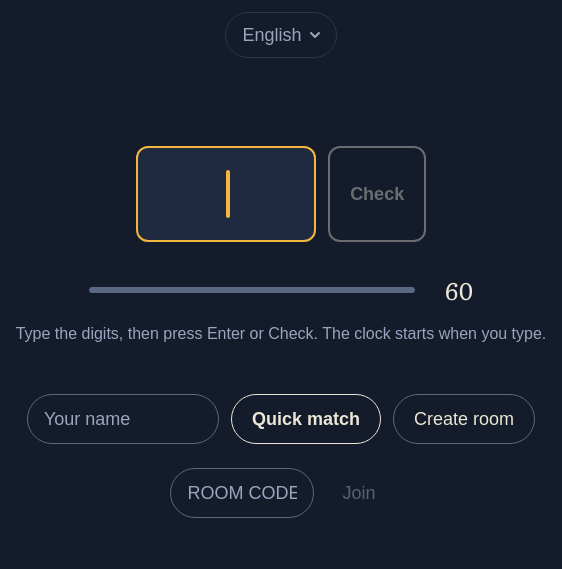
private rooms › creates a private room and shows its code
Step 1. Click the button "Create room" → (464, 419), box [393,394,535,444]
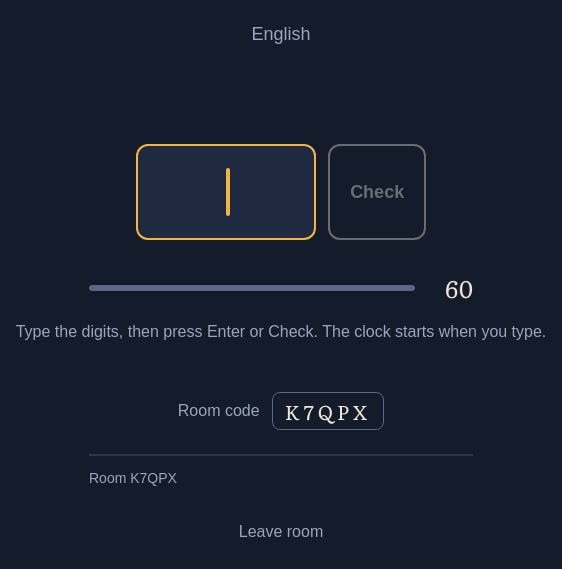
Expected: the button "Leave room" is shown, [223,512,339,552]
Expected: the button with aria-label "Copy room code K7QPX" is shown, [272,392,384,430]
